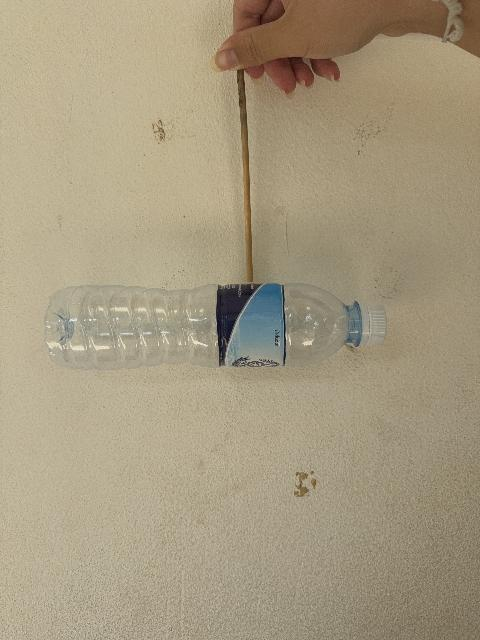bottle: (45, 284, 386, 369)
